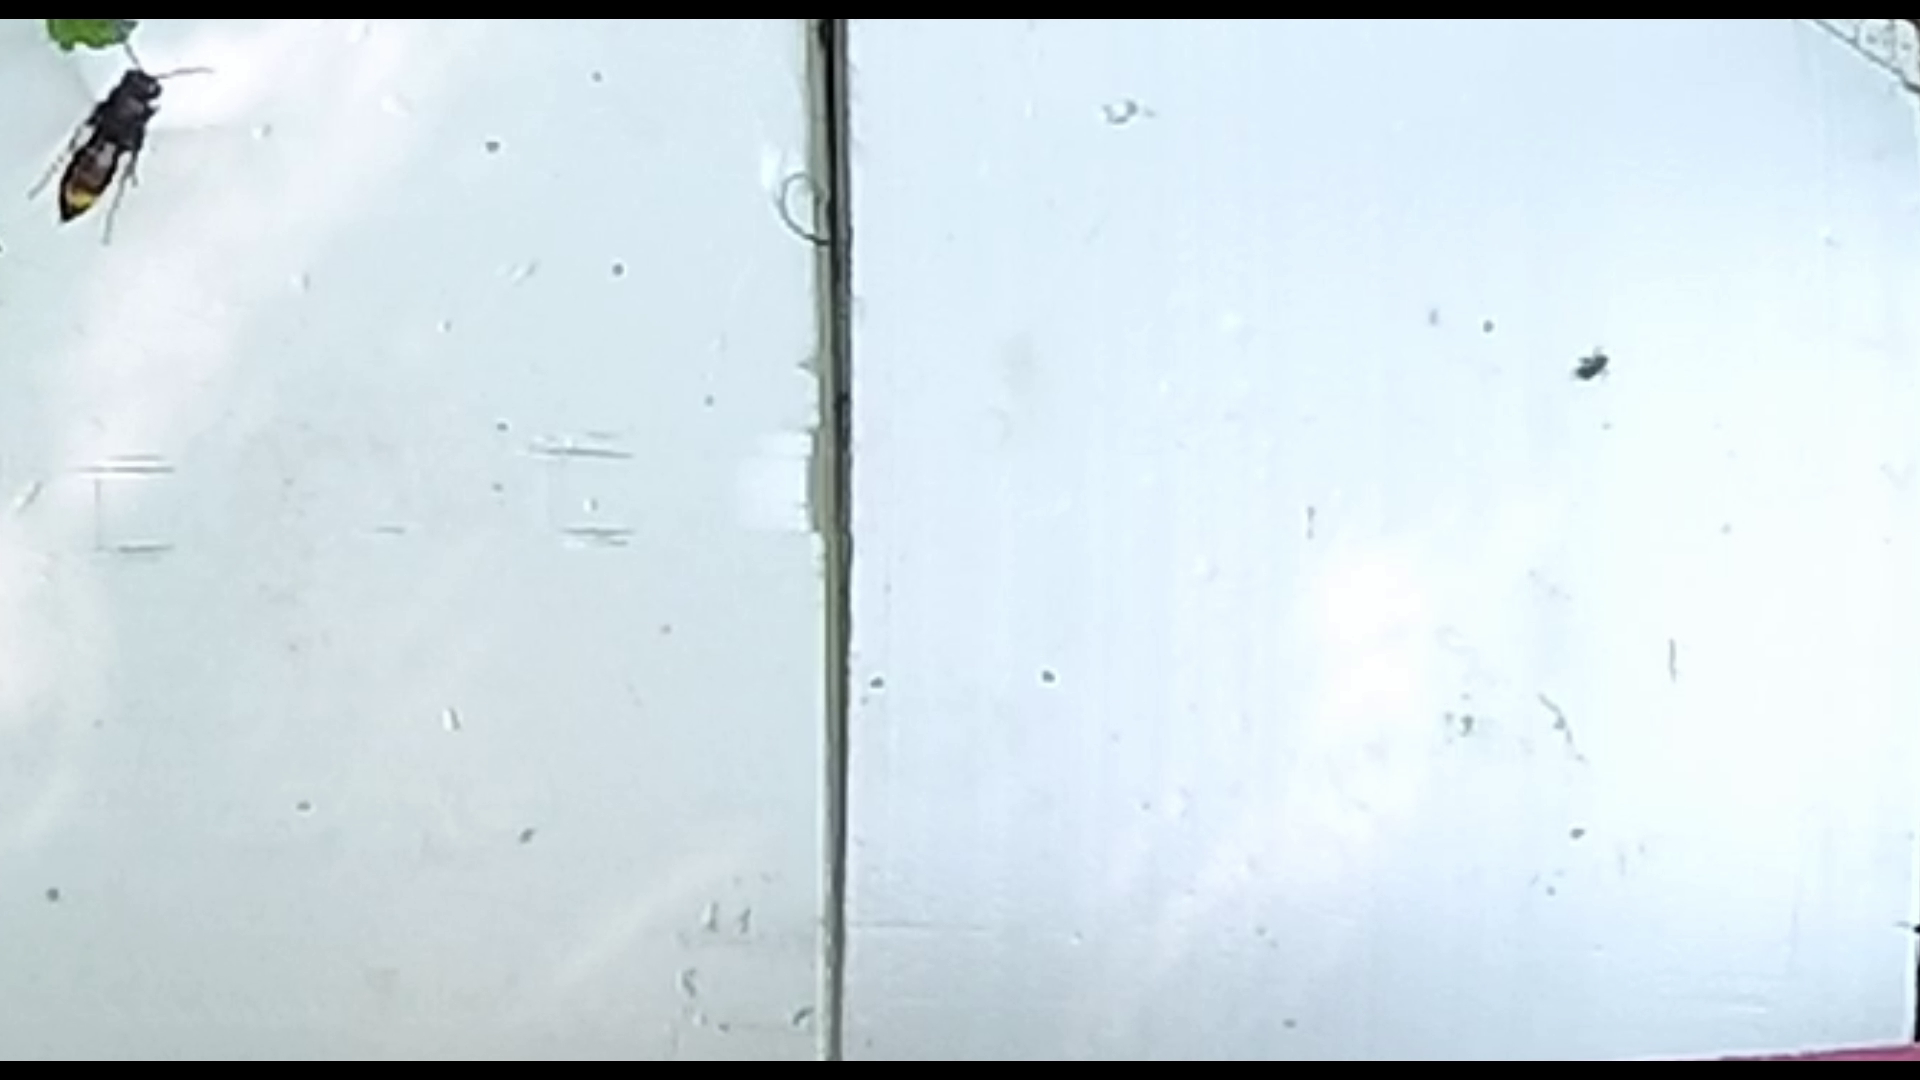Asian_hornets: (18, 24, 232, 245)
